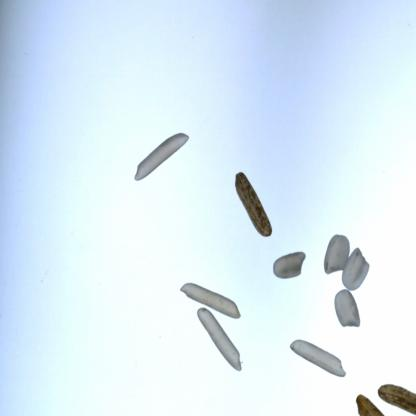Full: (126, 106, 194, 190), (218, 163, 281, 241), (192, 302, 247, 380), (176, 279, 246, 320), (286, 337, 351, 379), (352, 378, 415, 416), (341, 367, 386, 416), (266, 242, 312, 285), (327, 286, 367, 330), (339, 242, 372, 292), (321, 230, 351, 278)
